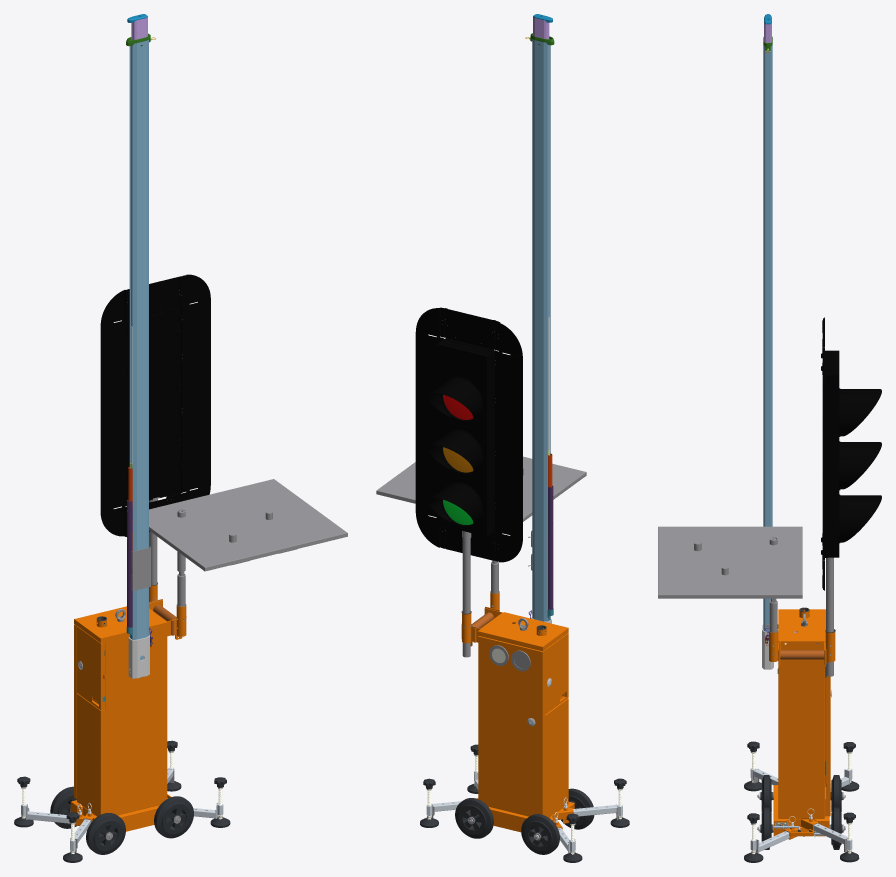
Rendered from pb4000_master.compressed.glb.
3 renders of one model, left to right at view 1: azimuth 30°, elevation 25°; view 2: azimuth 150°, elevation 25°; view 3: azimuth 270°, elevation 25°, orthographic. The views are drawn at different scales.
Visible parts, largest first — view 1: Traffic Light 20260330(1).STEP, AK-XLH-D115C-01-01-1, 太阳能板, 主杆, 车轮 (×2), AK-XLH-D115C-01-01-9, AK-XLH-D115C-01-01-2, AK-XLH-D115C-02-01-1, AK-XLH-D115C-01-05-1, AK-XLH-D115C-03-1, PRT00033; view 2: Traffic Light 20260330(1).STEP, AK-XLH-D115C-01-02-1, 主杆, 车轮 (×3), AK-XLH-D115C-01-01-1, 太阳能板, AK-XLH-D115C-01-01-2, AK-XLH-D115C-01-01-9, PRT00033, AK-XLH-D115C-01-05-1, =>[0:1:1:303]; view 3: 太阳能板, Traffic Light 20260330(1).STEP, AK-XLH-D115C-01-01-1, 主杆, AK-XLH-D115C-01-01-2, AK-XLH-D115C-01-02-1, AK-XLH-D115C-01-05-1, AK-XLH-D115C-01-04-2, AK-XLH-D115C-01-03-1, AK-XLH-D115C-01-03-2.
Boxes of the visible parts, box(x1,y1,x2,y2) form: Traffic Light 20260330(1).STEP: box(100, 274, 210, 598); AK-XLH-D115C-01-01-1: box(74, 620, 167, 816); 太阳能板: box(149, 479, 347, 571); 主杆: box(129, 39, 148, 660); 车轮 (×2): box(86, 796, 193, 854); AK-XLH-D115C-01-01-9: box(77, 626, 105, 710); AK-XLH-D115C-01-01-2: box(74, 606, 167, 638); AK-XLH-D115C-02-01-1: box(128, 635, 149, 678); AK-XLH-D115C-01-05-1: box(70, 800, 159, 831); AK-XLH-D115C-03-1: box(131, 546, 150, 590); PRT00033: box(127, 500, 132, 627); Traffic Light 20260330(1).STEP: box(415, 307, 522, 657); AK-XLH-D115C-01-02-1: box(478, 636, 545, 816); 主杆: box(532, 39, 550, 621); 车轮 (×3): box(455, 788, 594, 854); AK-XLH-D115C-01-01-1: box(512, 622, 568, 817); 太阳能板: box(376, 456, 586, 521); AK-XLH-D115C-01-01-2: box(478, 612, 568, 651); AK-XLH-D115C-01-01-9: box(545, 633, 568, 714); PRT00033: box(548, 485, 553, 609); AK-XLH-D115C-01-05-1: box(489, 801, 574, 832); =>[0:1:1:303]: box(489, 645, 530, 671); 太阳能板: box(658, 526, 802, 598); Traffic Light 20260330(1).STEP: box(821, 317, 881, 676); AK-XLH-D115C-01-01-1: box(778, 641, 826, 818); 主杆: box(763, 45, 772, 631); AK-XLH-D115C-01-01-2: box(778, 609, 825, 641); AK-XLH-D115C-01-02-1: box(825, 676, 830, 816); AK-XLH-D115C-01-05-1: box(773, 785, 829, 836); AK-XLH-D115C-01-04-2: box(769, 630, 835, 662); AK-XLH-D115C-01-03-1: box(778, 641, 826, 667); AK-XLH-D115C-01-03-2: box(780, 650, 824, 659).
Size of the model in its own units: 1.25 by 4.21 by 1.05.
